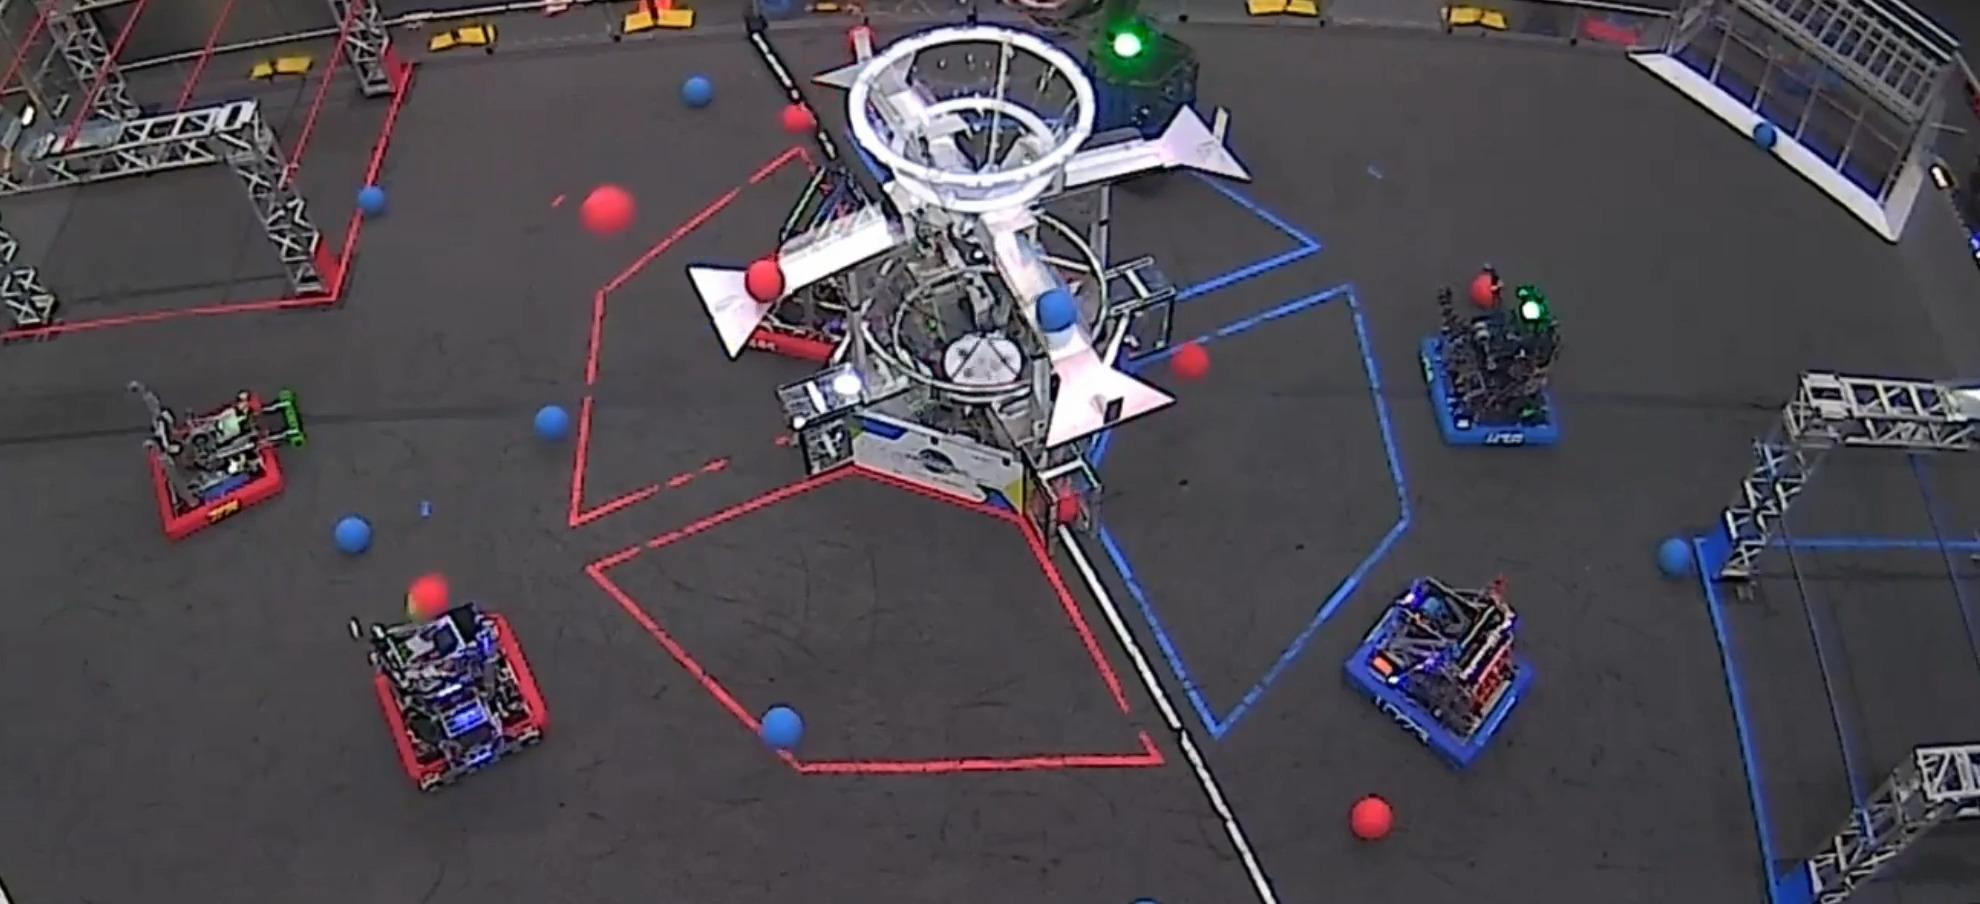Robots: (349, 604, 546, 789), (1347, 577, 1530, 766), (128, 381, 306, 539), (1423, 266, 1560, 444), (1082, 0, 1211, 140), (749, 280, 849, 362)
